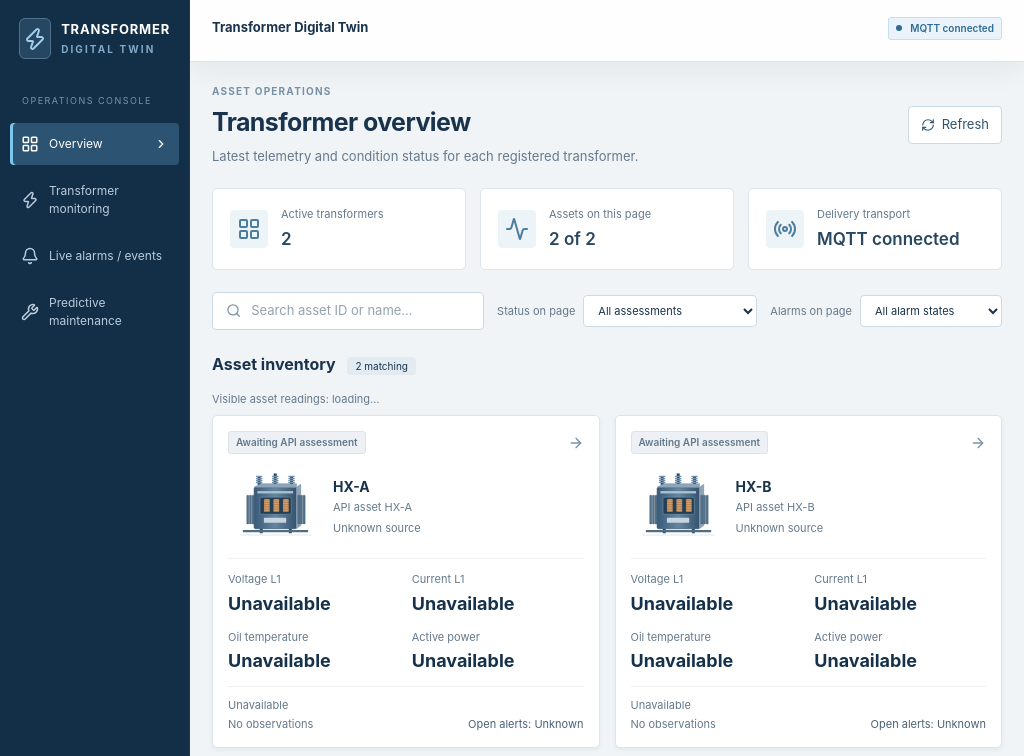
opens directly into the API registry overview and changes to equipment monitoring
expect the heading "Transformer overview" is shown: met, box [212,107,471,137]
Click the button with aria-label "Monitor HX-B" at (808, 582), box [614,415,1002,748]
(page scrolled)
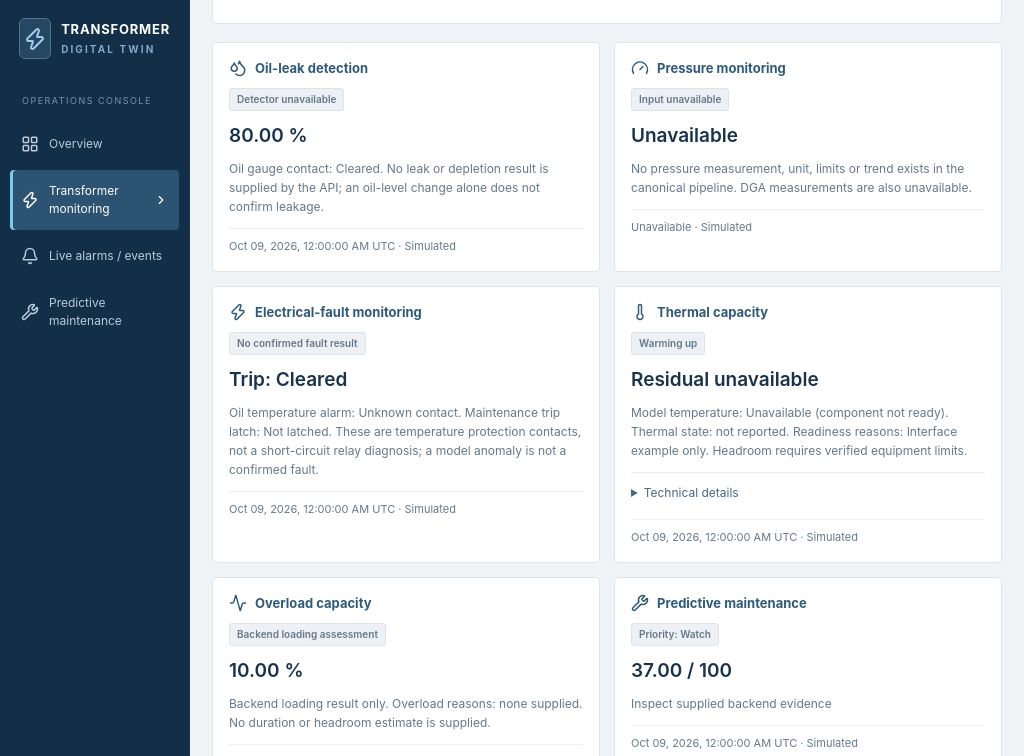
expect the text "No pressure measurement" is shown: met, box [631,160,972,195]
expect the text "Trip: Cleared" is shown: met, box [229,368,347,391]
